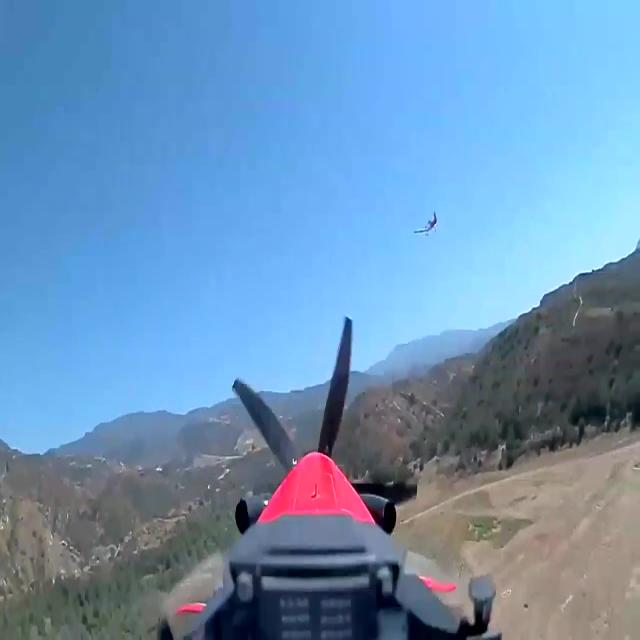iha: (413, 210, 439, 238)
